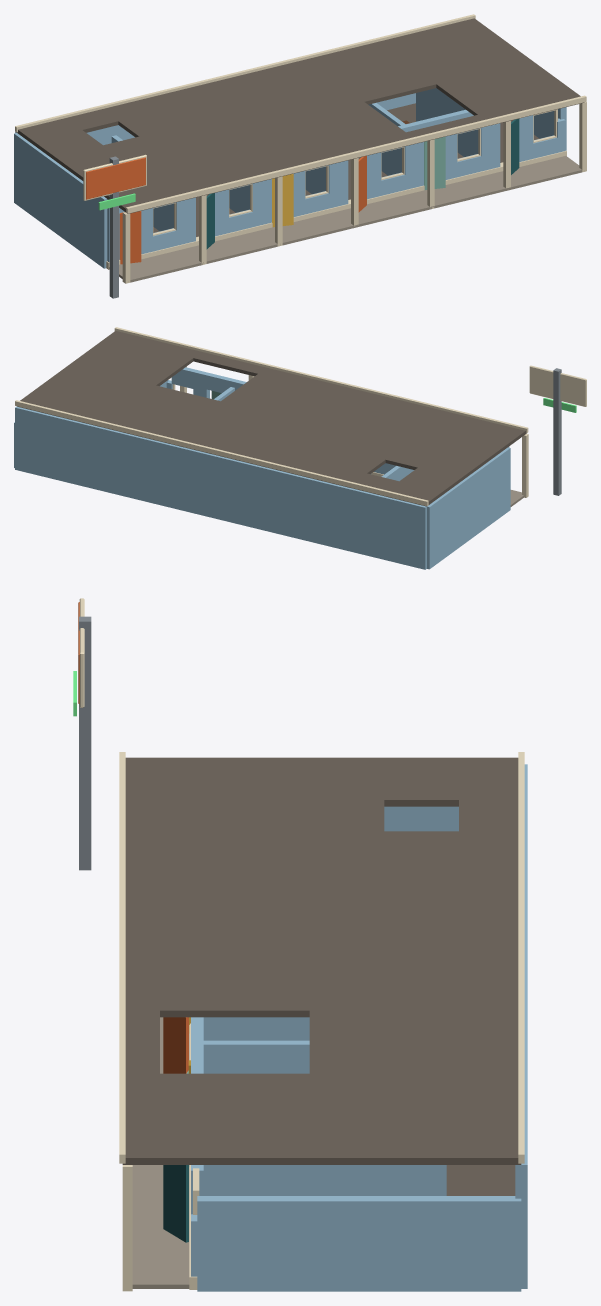
File: Bldg_Motel.fbx
The picture shows the model from 3 angles, top to bottom: view 1: azimuth 30°, elevation 25°; view 2: azimuth 150°, elevation 25°; view 3: azimuth 270°, elevation 25°; orthographic projection. The views are drawn at different scales.
Parts seen in each view (by area): view 1: Roof, Decor, Walkway, Wall35, Sign1, Wall34, Wall21, Floor, Wall16, Wall26, Wall6, Wall11 (+25 smaller); view 2: Roof, Wall37, Decor, Wall35, Post1, Wall23, Wall25; view 3: Roof, Wall36, Decor, Wall34, Walkway, Wall33, Wall37, Wall32, Floor, Wall35, Post7.
Boxes of the visible parts, x1=… form: Roof: x1=17, y1=18, x2=584, y2=213; Decor: x1=15, y1=14, x2=586, y2=298; Walkway: x1=109, y1=156, x2=582, y2=282; Wall35: x1=14, y1=133, x2=107, y2=268; Sign1: x1=86, y1=157, x2=145, y2=199; Wall34: x1=416, y1=88, x2=477, y2=156; Wall21: x1=402, y1=120, x2=424, y2=189; Floor: x1=124, y1=103, x2=539, y2=236; Wall16: x1=325, y1=160, x2=348, y2=208; Wall26: x1=478, y1=123, x2=500, y2=171; Wall6: x1=173, y1=197, x2=195, y2=245; Wall11: x1=249, y1=179, x2=271, y2=226; Roof: x1=17, y1=331, x2=526, y2=506; Wall37: x1=15, y1=406, x2=426, y2=569; Decor: x1=15, y1=327, x2=586, y2=506; Wall35: x1=427, y1=447, x2=510, y2=569; Post1: x1=522, y1=433, x2=528, y2=497; Wall23: x1=193, y1=370, x2=209, y2=398; Wall25: x1=171, y1=367, x2=195, y2=388; Roof: x1=122, y1=757, x2=521, y2=1164; Wall36: x1=197, y1=1196, x2=521, y2=1291; Decor: x1=79, y1=598, x2=524, y2=1289; Wall34: x1=203, y1=1165, x2=446, y2=1195; Walkway: x1=132, y1=1017, x2=189, y2=1288; Wall33: x1=203, y1=1040, x2=309, y2=1073; Wall37: x1=515, y1=764, x2=527, y2=1288; Wall32: x1=203, y1=1017, x2=309, y2=1040; Floor: x1=446, y1=1165, x2=515, y2=1195; Wall35: x1=384, y1=806, x2=458, y2=831; Post7: x1=122, y1=1165, x2=132, y2=1291.
Bounding box in the file's own units: 85.75 × 22.53 × 36.45.
